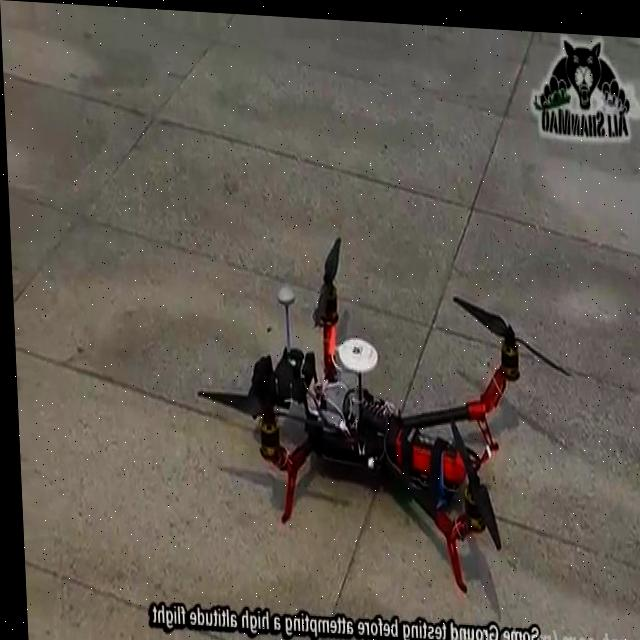drone: (185, 220, 582, 597)
